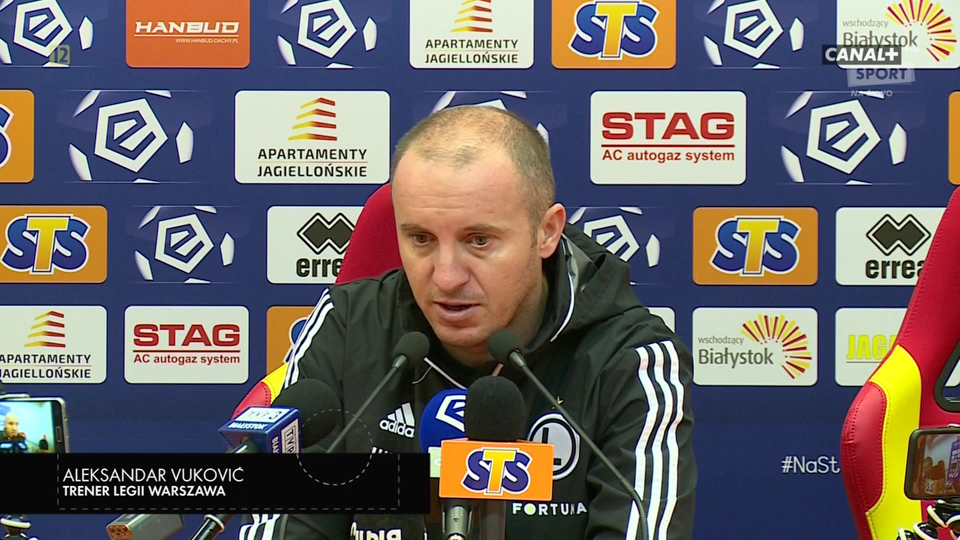Adidas: (378, 400, 421, 439)
